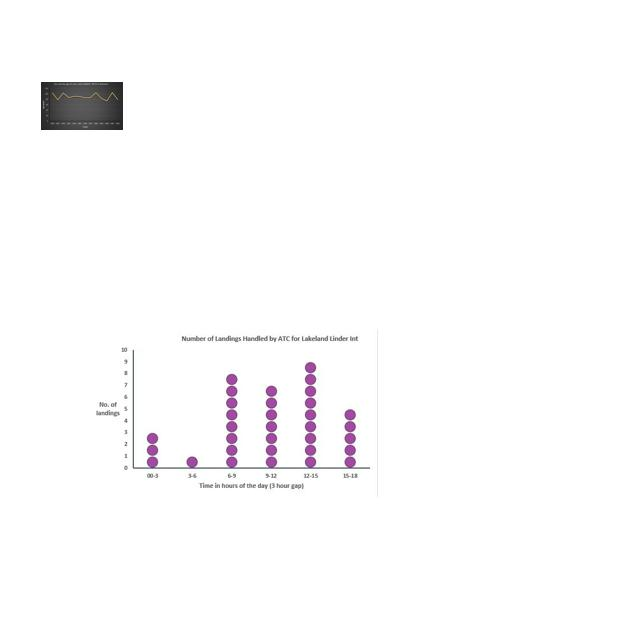Graph: (88, 329, 378, 497), (41, 82, 123, 130)
